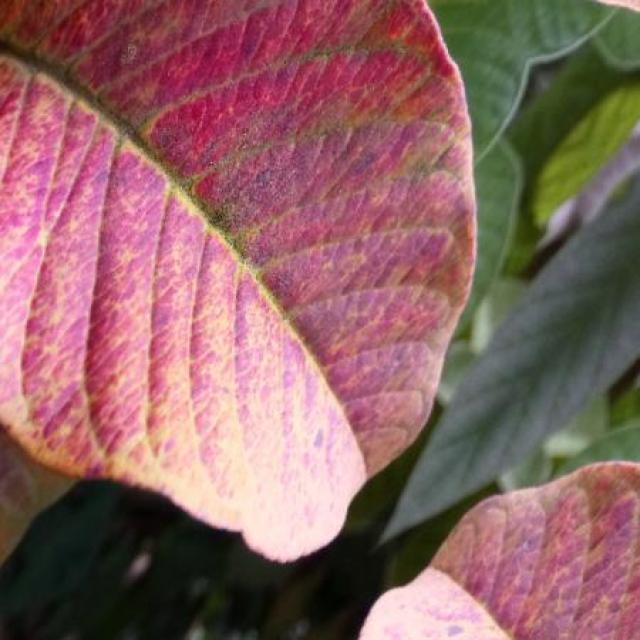Red Rust: (359, 461, 640, 639)
